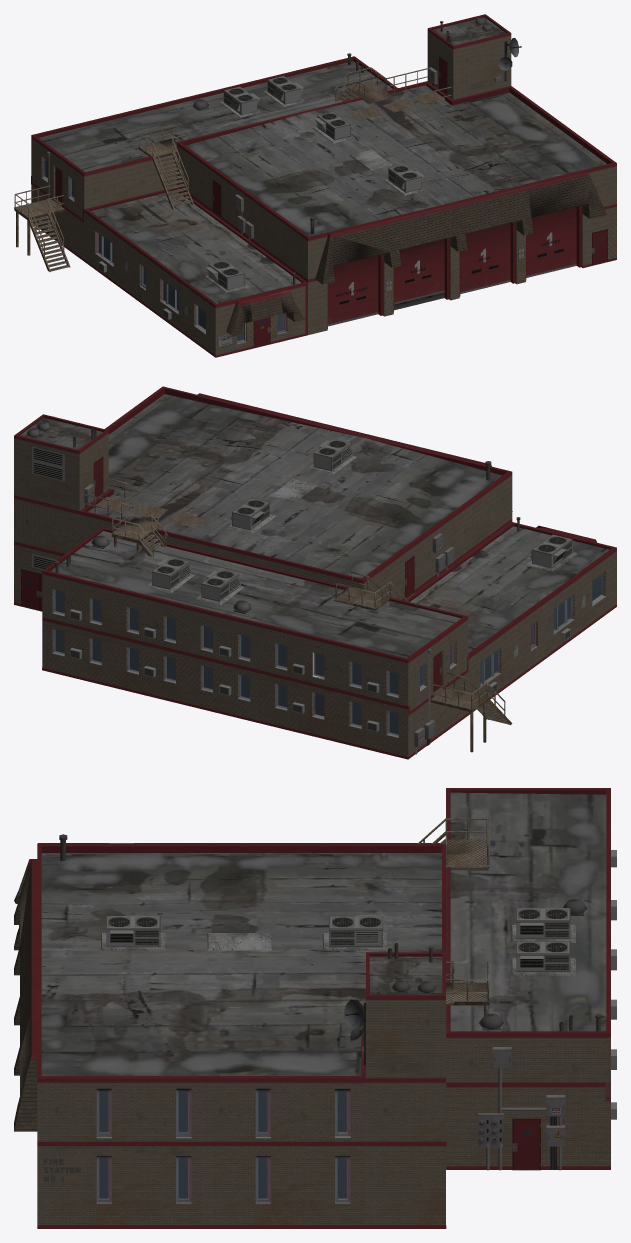
The model's file is fire_station.glb.
The picture shows the model from 3 angles, top to bottom: view 1: azimuth 30°, elevation 25°; view 2: azimuth 150°, elevation 25°; view 3: azimuth 270°, elevation 25°; orthographic projection. The views are drawn at different scales.
Parts seen in each view (by area): view 1: fire_station; view 2: fire_station; view 3: fire_station.
Boxes of the visible parts, x1=… form: fire_station: x1=14, y1=14, x2=616, y2=357; fire_station: x1=14, y1=386, x2=616, y2=759; fire_station: x1=14, y1=788, x2=616, y2=1228.
Bounding box in the file's own units: 31.27 × 10.57 × 23.61.
1 material, 1 textured.
